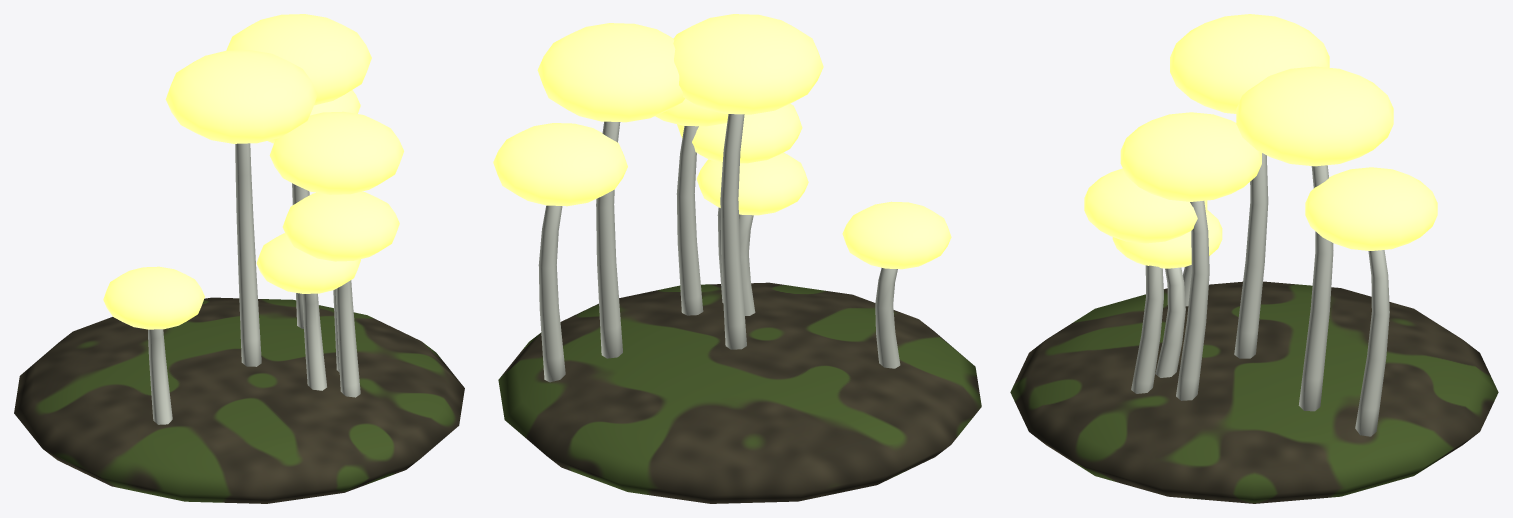
File: GlowShrooms.fbx
3 renders of one model, left to right at view 1: azimuth 30°, elevation 25°; view 2: azimuth 150°, elevation 25°; view 3: azimuth 270°, elevation 25°, orthographic. The views are drawn at different scales.
Visible parts, largest first — view 1: GlowShrooms, GlowShrooms_Glow; view 2: GlowShrooms, GlowShrooms_Glow; view 3: GlowShrooms, GlowShrooms_Glow.
Boxes of the visible parts, x1,y1,x2,y2 form: GlowShrooms: [14, 143, 464, 503]; GlowShrooms_Glow: [103, 14, 403, 329]; GlowShrooms: [498, 114, 981, 503]; GlowShrooms_Glow: [493, 14, 951, 269]; GlowShrooms: [1010, 153, 1498, 503]; GlowShrooms_Glow: [1084, 14, 1437, 268].
Size of the model in its own units: 260 by 239 by 260.
Materials: 2 (1 with a texture image).
